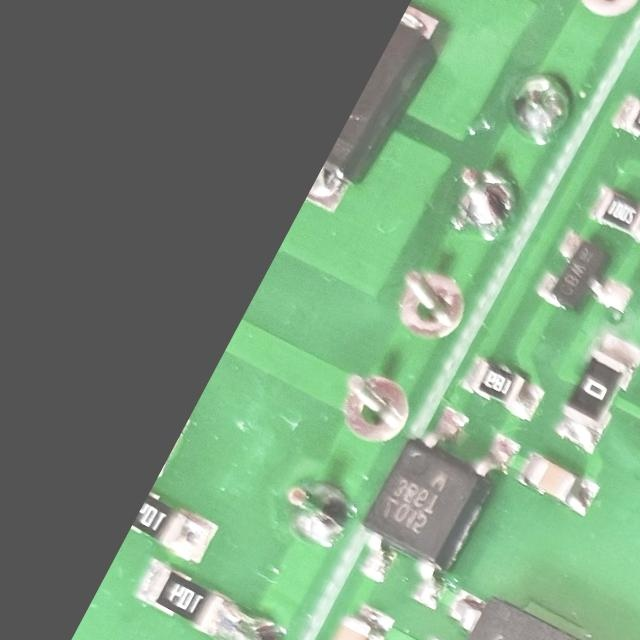chip-capacitor: (510, 445, 606, 522)
chip-resistor: (546, 328, 640, 460), (129, 553, 239, 640), (453, 347, 551, 428), (128, 487, 223, 570), (581, 177, 640, 255)
diode: (303, 0, 455, 225)
ic: (337, 391, 528, 617)
transistor: (526, 223, 640, 341)
